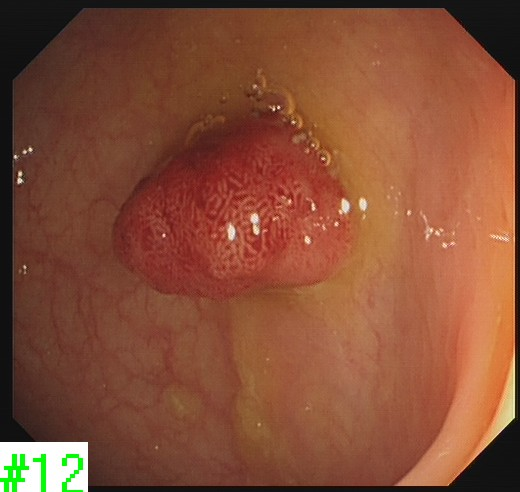adenoma: (108, 113, 354, 302)
